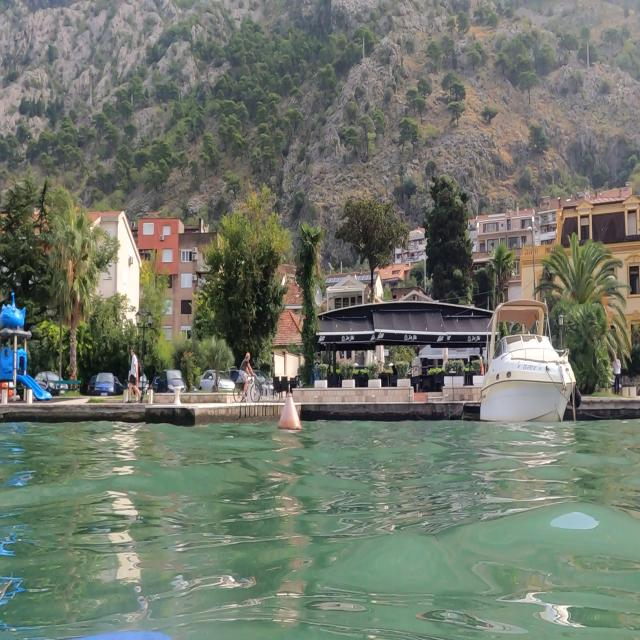boat: (477, 296, 578, 425)
buoy: (277, 384, 305, 444)
